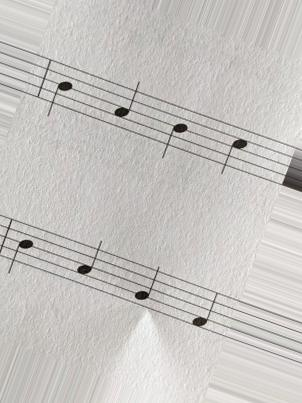note: (124, 259, 167, 326), (109, 77, 148, 141), (155, 98, 191, 163), (44, 53, 77, 122), (5, 218, 40, 280), (71, 239, 105, 299), (217, 121, 251, 179), (189, 282, 222, 338)
